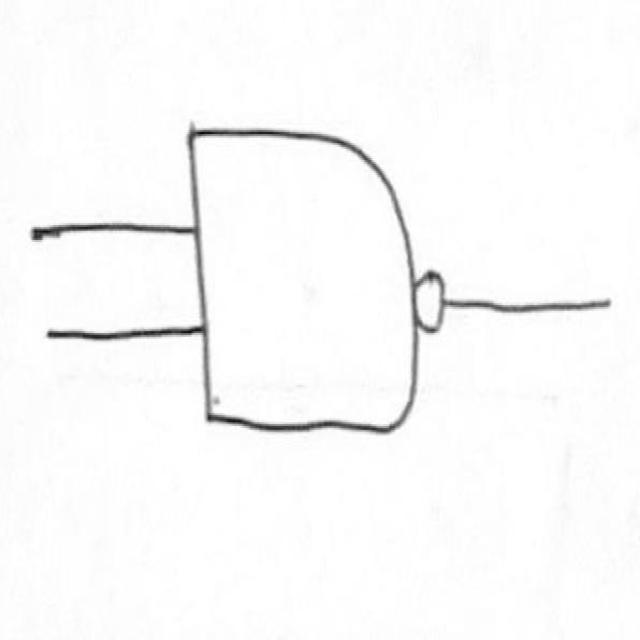NAND: (175, 90, 466, 500)
